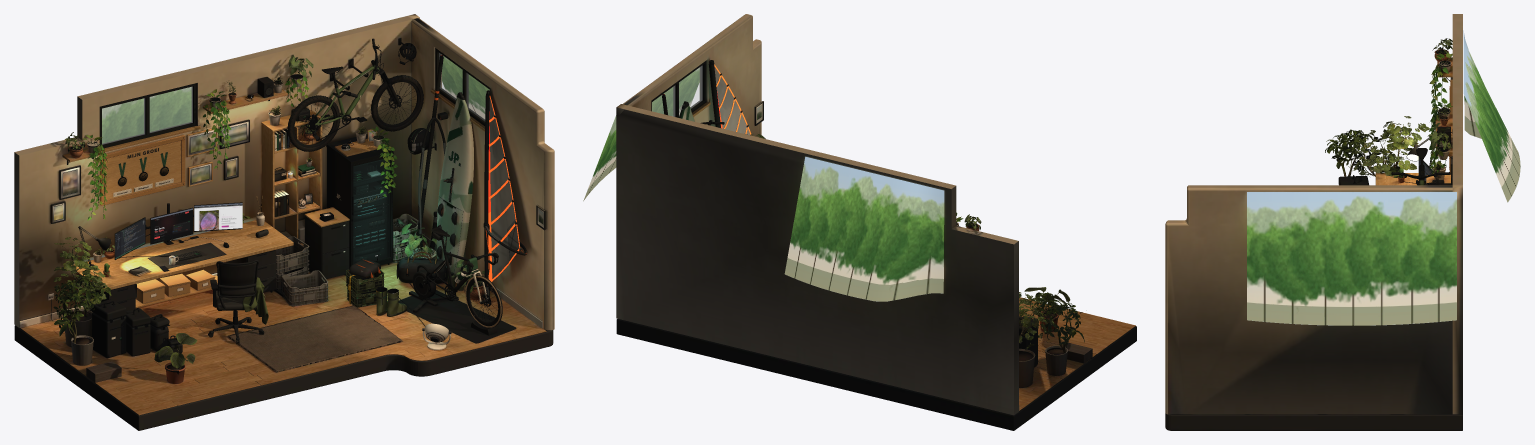
File: room.glb
3 views of the same model, side by side, from view 1: azimuth 30°, elevation 25°; view 2: azimuth 150°, elevation 25°; view 3: azimuth 270°, elevation 25° (orthographic). The views are drawn at different scales.
Parts seen in each view (by area): view 1: decor_shell__matte, story_werk__matte, decor_shelving__matte, story_windsurfen__matte, story_homelab__matte, decor_left_corner__matte, decor_back_wall__matte, decor_floor__matte, story_wielrennen__matte, decor_desk_clutter__matte, story_groei__matte, story_mountainbiken__matte (+20 smaller); view 2: decor_shell__matte, window_back_outside, decor_left_corner__matte, window_right_outside, window_right_glass, story_windsurfen__gloss, decor_left_corner__cutout, story_windsurfen__matte; view 3: decor_shell__matte, window_right_outside, window_back_outside, decor_left_corner__cutout, decor_back_wall__matte, decor_left_corner__matte, decor_back_wall__cutout, story_werk__matte, story_mountainbiken__matte.
Boxes of the visible parts, x1,y1,x2,y2 form: decor_shell__matte: (14,14,554,430); story_werk__matte: (71,202,293,343); decor_shelving__matte: (261,105,349,279); story_windsurfen__matte: (416,55,527,303); story_homelab__matte: (326,126,397,268); decor_left_corner__matte: (53,246,182,382); decor_back_wall__matte: (51,66,308,223); decor_floor__matte: (51,275,402,383); story_wielrennen__matte: (398,227,516,350); decor_desk_clutter__matte: (93,195,275,310); story_groei__matte: (100,135,185,205); story_mountainbiken__matte: (287,38,423,151); decor_shell__matte: (616,14,1136,430); window_back_outside: (784,156,944,301); decor_left_corner__matte: (1019,292,1092,387); window_right_outside: (583,67,699,201); window_right_glass: (652,66,702,116); story_windsurfen__gloss: (714,66,750,135); decor_left_corner__cutout: (1019,292,1054,349); story_windsurfen__matte: (662,60,748,127); decor_shell__matte: (1165,14,1462,430); window_right_outside: (1247,192,1456,325); window_back_outside: (1463,30,1520,202); decor_left_corner__cutout: (1346,116,1429,177); decor_back_wall__matte: (1429,49,1452,183); decor_left_corner__matte: (1325,125,1411,185); decor_back_wall__cutout: (1427,38,1452,156); story_werk__matte: (1375,137,1433,185); story_mountainbiken__matte: (1391,148,1452,185).
Size of the model in its own units: 6.64 by 3.12 by 4.14.
65 materials, 39 textured.
